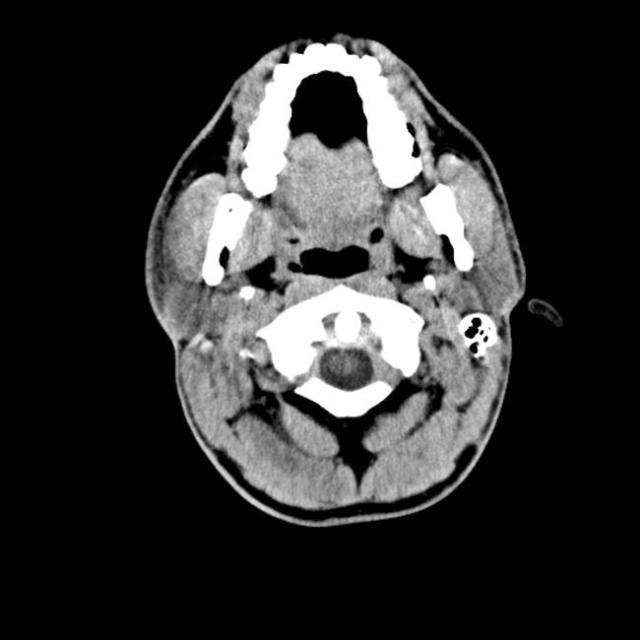lesion: (140, 31, 536, 528)
